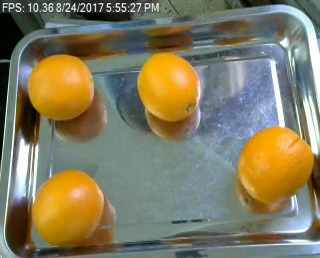Orange: (237, 126, 314, 204), (32, 169, 106, 246), (26, 53, 93, 119), (137, 52, 201, 121)
